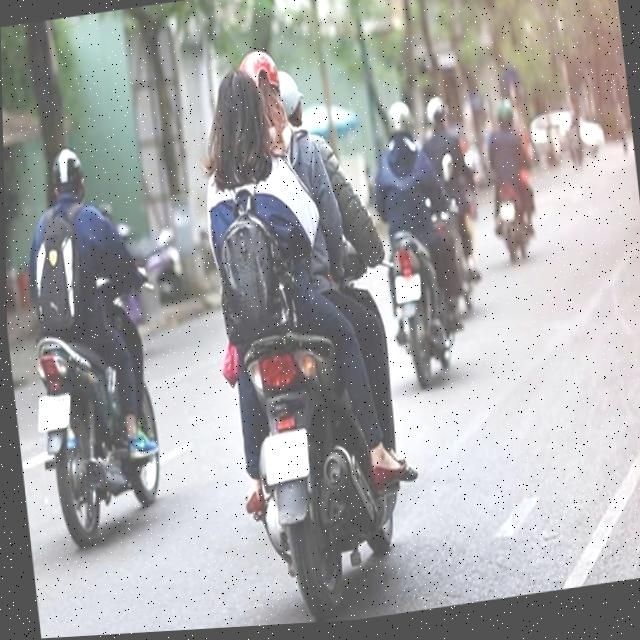motorcycle: (213, 289, 416, 628), (12, 263, 174, 553), (376, 188, 486, 400), (479, 161, 544, 271)
plate: (252, 422, 318, 490), (29, 384, 80, 437), (388, 267, 429, 312)
